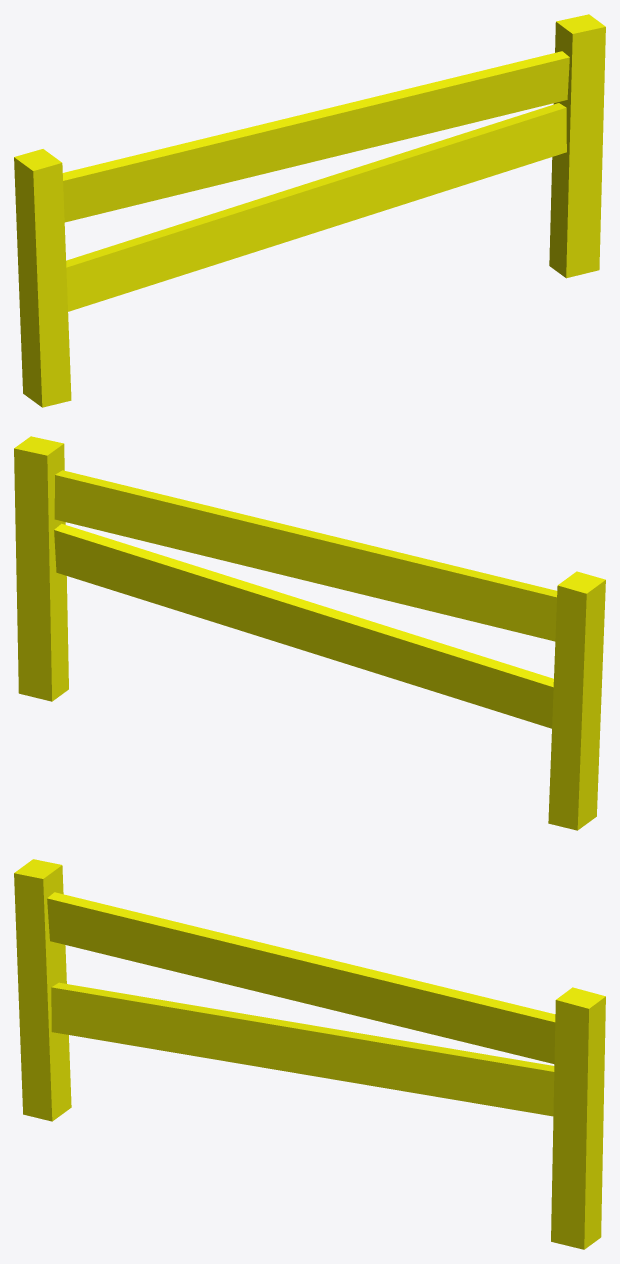
Rendered from Prop_WoodenFence_Single.glb.
The picture shows the model from 3 angles, top to bottom: view 1: azimuth 30°, elevation 25°; view 2: azimuth 150°, elevation 25°; view 3: azimuth 330°, elevation 25°; orthographic projection.
Visible parts, largest first — view 1: Prop_WoodenFence_Single; view 2: Prop_WoodenFence_Single; view 3: Prop_WoodenFence_Single.
Part boxes in pixels (x1,y1,x2,y2): Prop_WoodenFence_Single: [14, 14, 605, 407]; Prop_WoodenFence_Single: [14, 436, 605, 830]; Prop_WoodenFence_Single: [14, 859, 605, 1249].
Size of the model in its own units: 2.06 by 0.8381 by 0.1198.
Materials: 1 (1 with a texture image).
